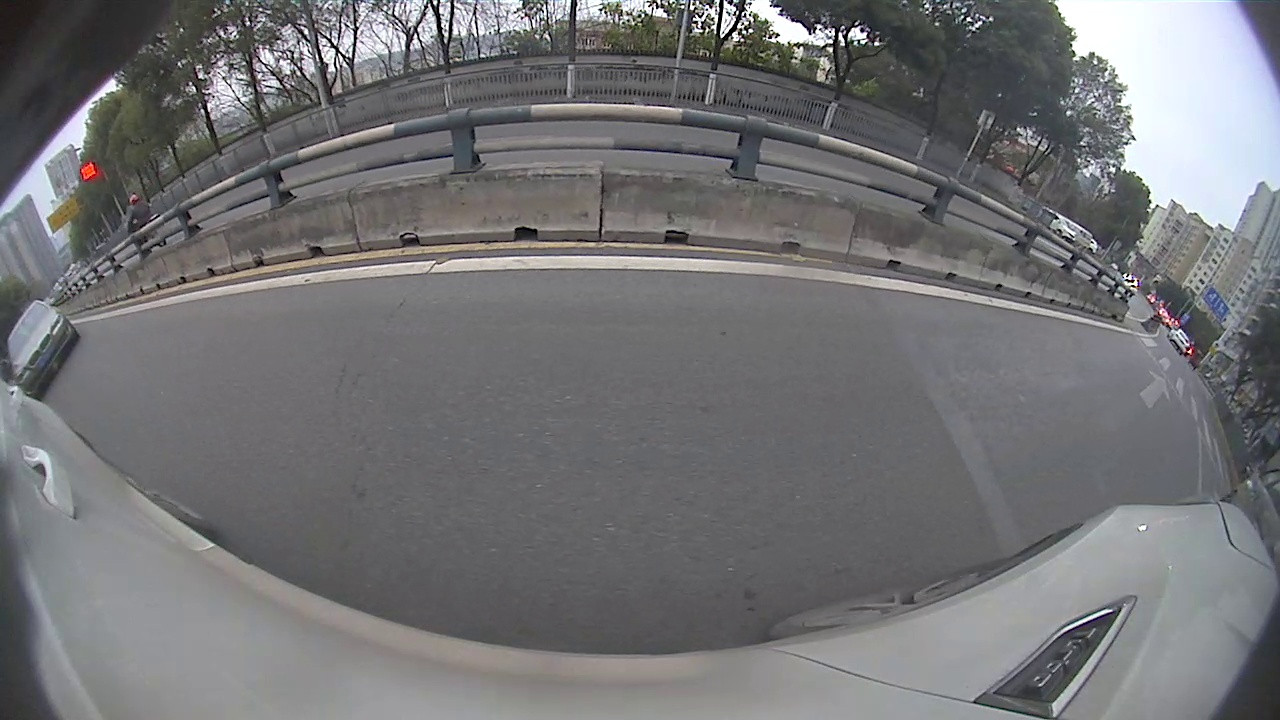car: (3, 300, 83, 403)
